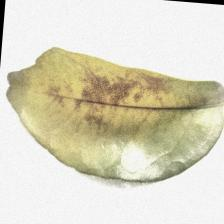black spot: (66, 64, 190, 140)
